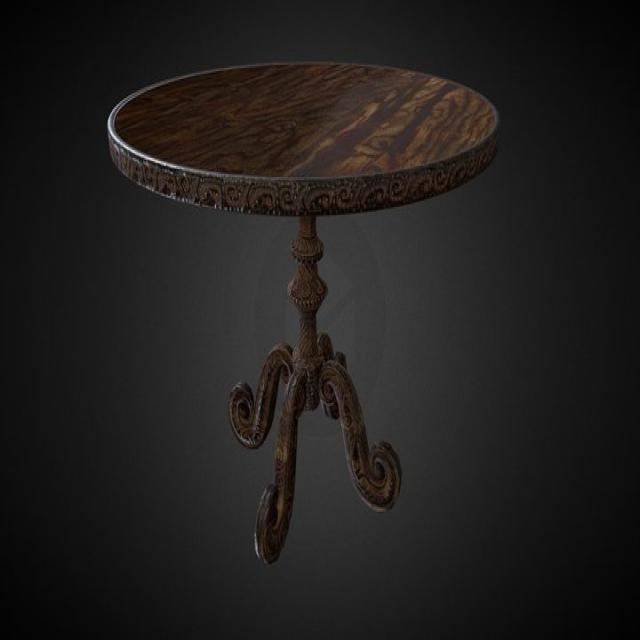table: (109, 54, 499, 567)
